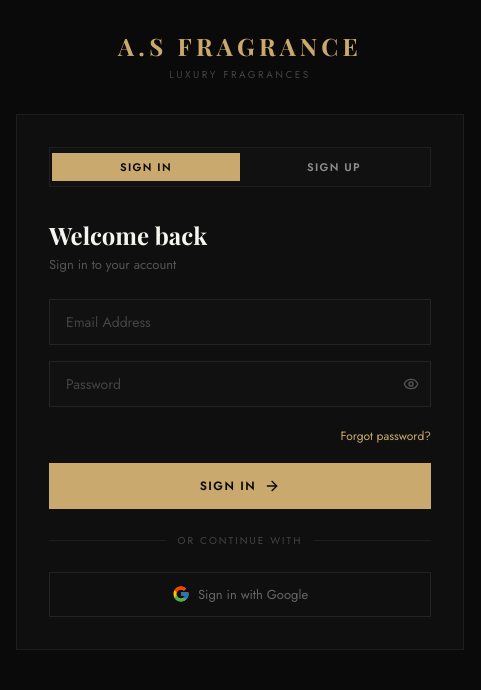
Test: Sign-in page – form validation › shows "Email is required" on empty submit
Click the button "Sign In" at (240, 486), box [49,462,431,508]
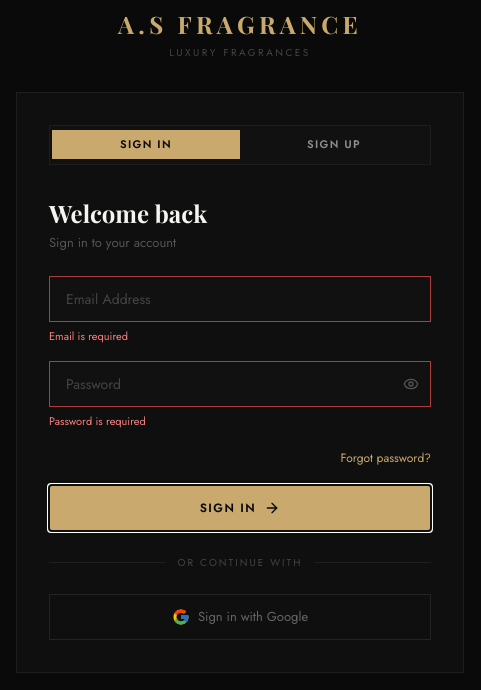
Check: the text "Email is required" is shown, box [49,328,128,344]
